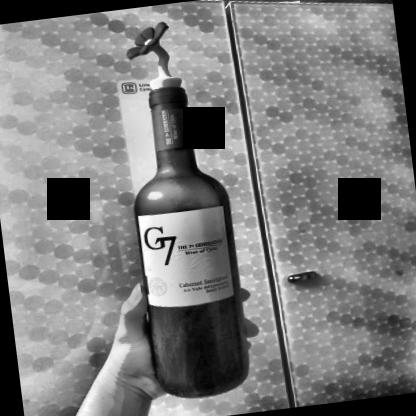G7: (138, 203, 236, 311)
